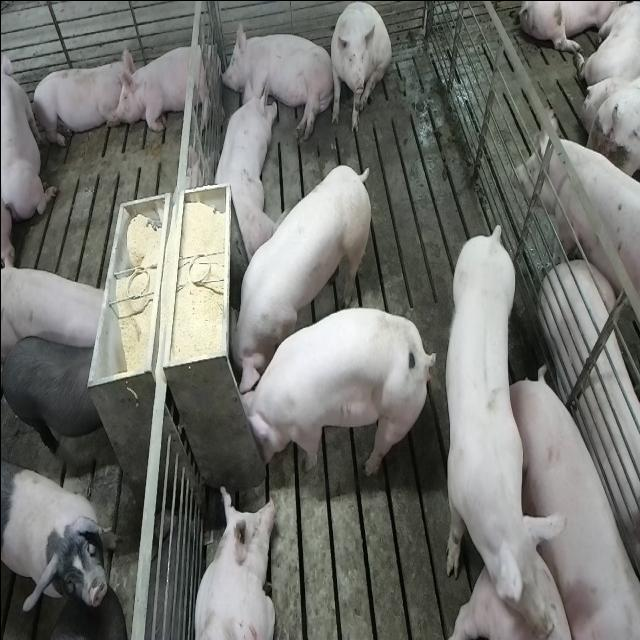Feeding: (235, 304, 434, 481), (228, 162, 377, 388)
Lateral_lying: (218, 18, 334, 141)
Sitting: (328, 2, 391, 134)
Standing: (441, 224, 543, 632), (512, 133, 640, 350), (3, 462, 116, 614), (2, 332, 108, 468), (3, 262, 113, 360)
Sternal_lying: (191, 484, 277, 640), (209, 73, 273, 260), (2, 34, 56, 230), (28, 52, 130, 150), (115, 36, 215, 135)
